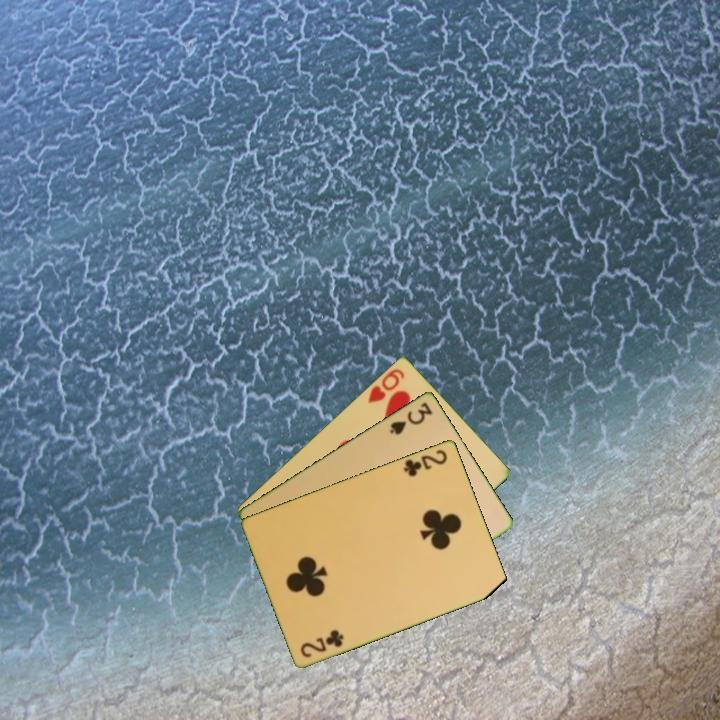2c: (400, 445, 450, 479), (297, 626, 347, 660)
3s: (386, 398, 435, 437)
6h: (364, 365, 407, 406)
